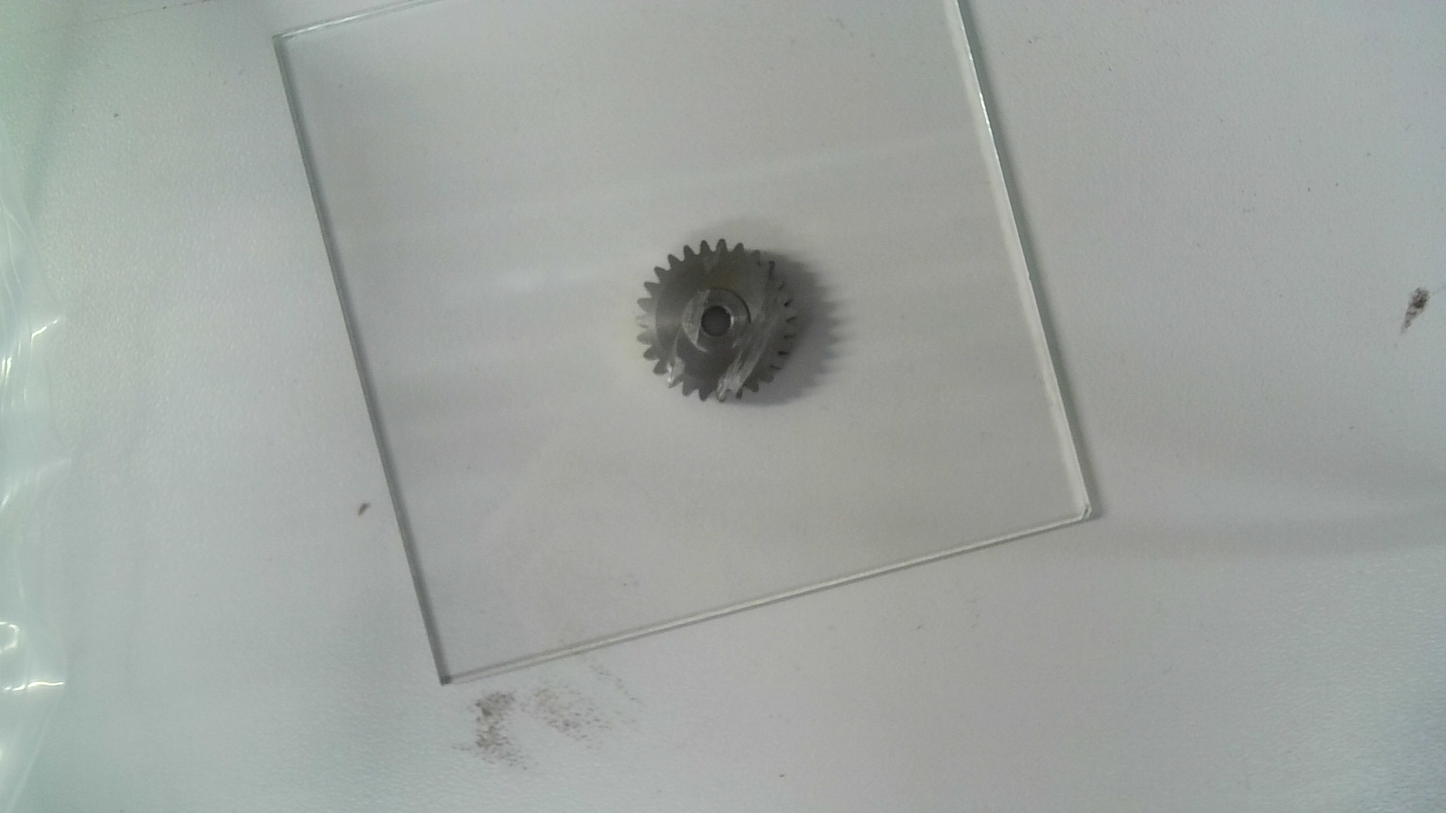gear: (632, 237, 801, 406)
